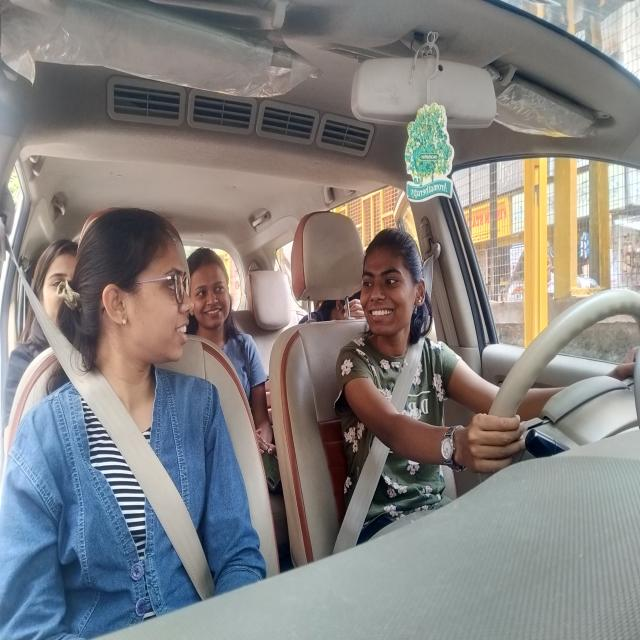LeftRight: (356, 218, 433, 350)
person: (76, 205, 193, 406), (35, 229, 76, 345), (192, 246, 232, 340)
talking: (174, 321, 196, 349), (370, 302, 390, 326)
